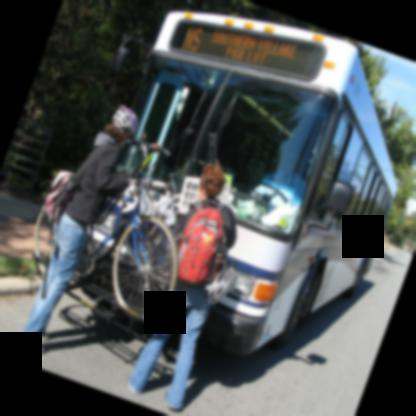backpack: (178, 200, 227, 284), (32, 170, 79, 225)
handbag: (44, 142, 114, 244)
